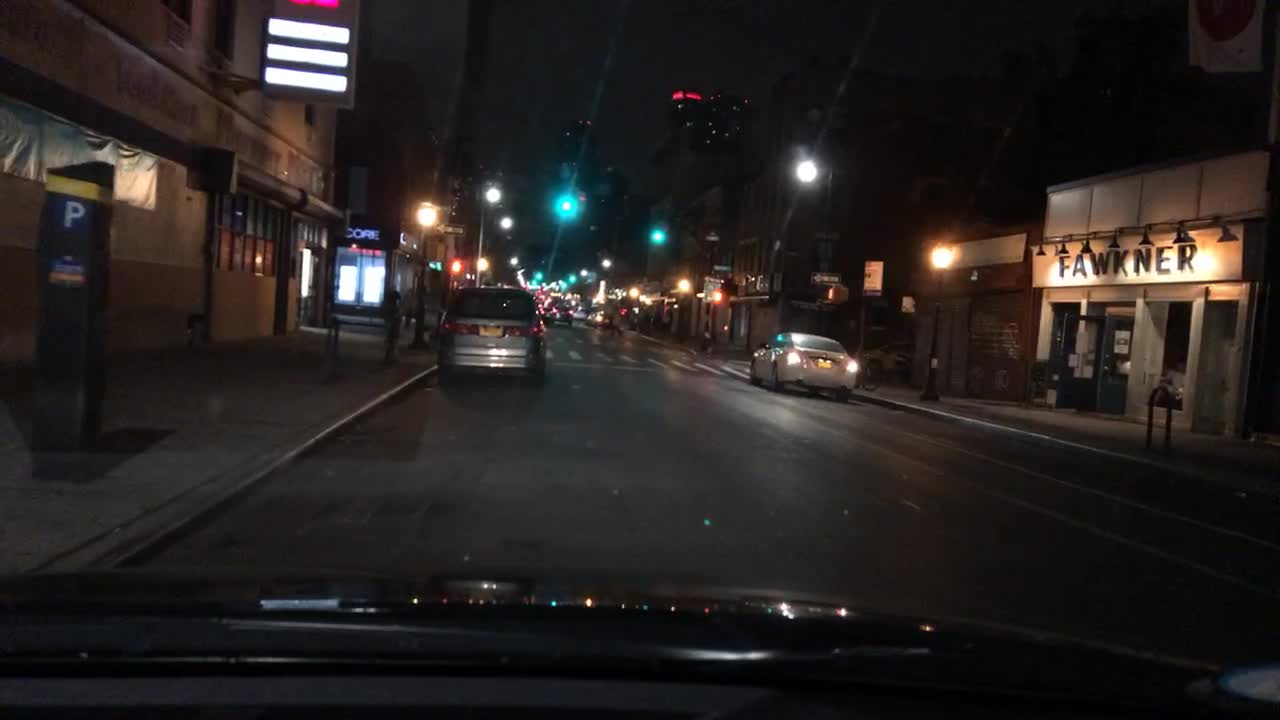bike: (844, 342, 884, 393)
car: (432, 280, 548, 386), (746, 325, 864, 403), (850, 340, 914, 381), (548, 300, 573, 327), (591, 308, 614, 327), (538, 305, 556, 325), (539, 293, 560, 310), (572, 305, 587, 322), (582, 308, 598, 322)
person: (376, 288, 402, 366), (603, 303, 624, 339), (400, 286, 417, 329)
traffic light: (825, 283, 851, 305), (573, 189, 588, 224), (649, 219, 666, 246), (556, 191, 573, 216), (448, 255, 462, 277), (709, 290, 724, 305), (568, 270, 578, 287)
traffic sign: (40, 168, 96, 290), (860, 258, 884, 298), (808, 269, 840, 286), (701, 280, 720, 304), (435, 221, 464, 236), (899, 293, 916, 314), (817, 241, 834, 261), (814, 229, 842, 241), (712, 261, 734, 275), (817, 261, 835, 273)
